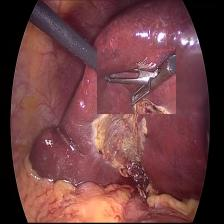Grasper: (98, 49, 176, 114)
